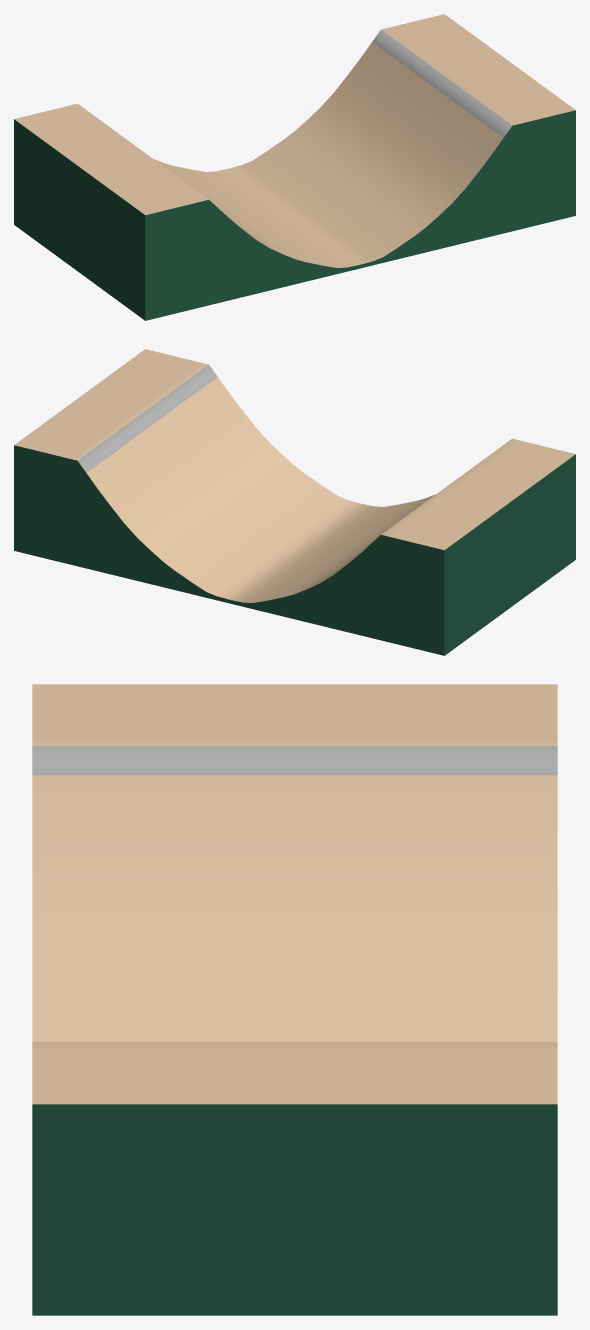
Rendered from ramp_3.fbx.
3 views of the same model, one above another, from view 1: azimuth 30°, elevation 25°; view 2: azimuth 150°, elevation 25°; view 3: azimuth 270°, elevation 25° (orthographic). The views are drawn at different scales.
Parts seen in each view (by area): view 1: pCube1; view 2: pCube1; view 3: pCube1.
Boxes of the visible parts, x1,y1,x2,y2 form: pCube1: (14,14,575,320); pCube1: (14,349,575,655); pCube1: (32,684,557,1315).
Size of the model in its own units: 15.81 by 3.71 by 8.35.
